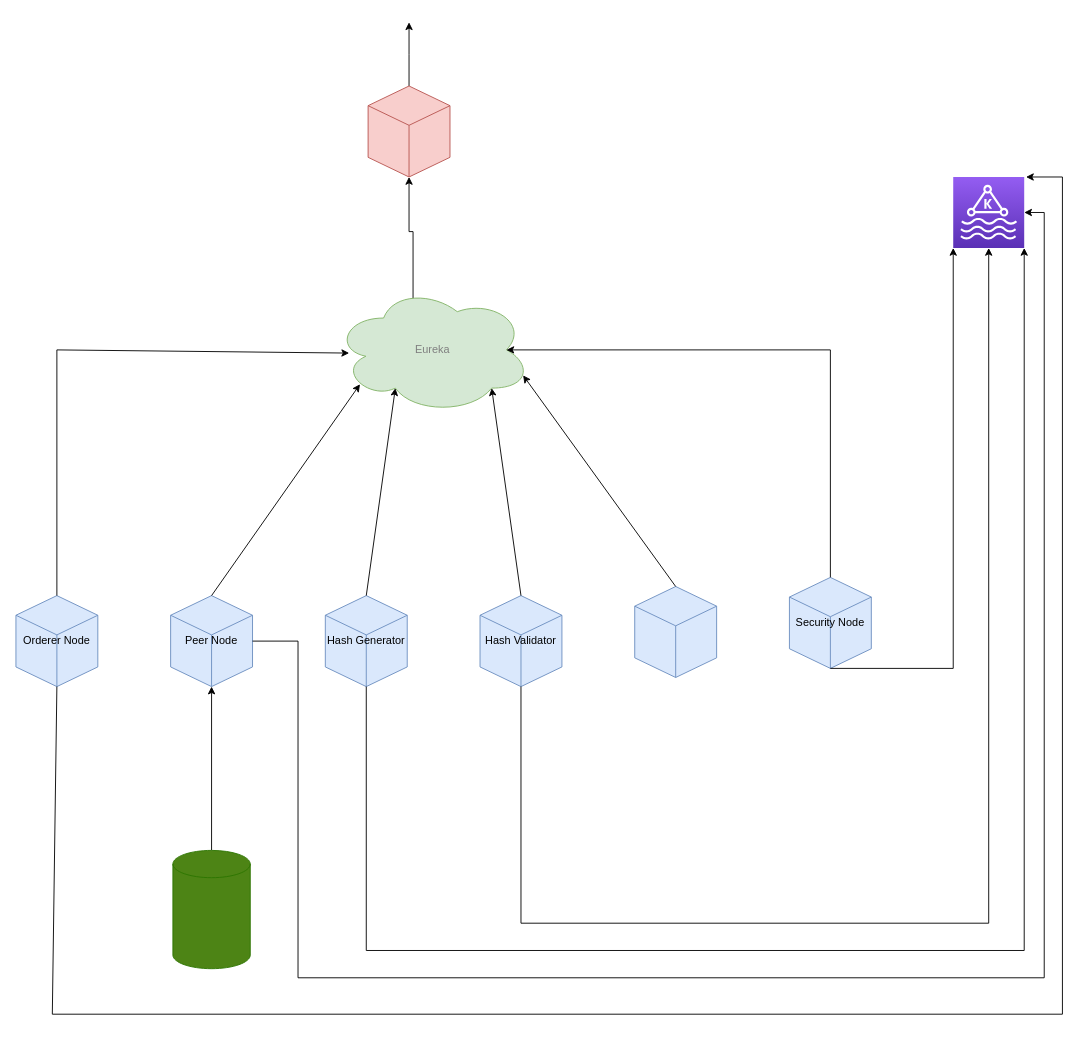
This 1086x1037 diagram has some shape labels left out. Here are the shapes that lost their labels. From the top down, the centre of each, then its label:
At (408,131): "Gateway".
At (675,631): "Prophet".
At (211,909): "Mongo DB".
